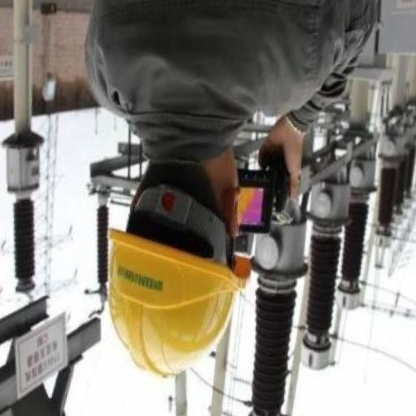yellow: (85, 217, 262, 394)
